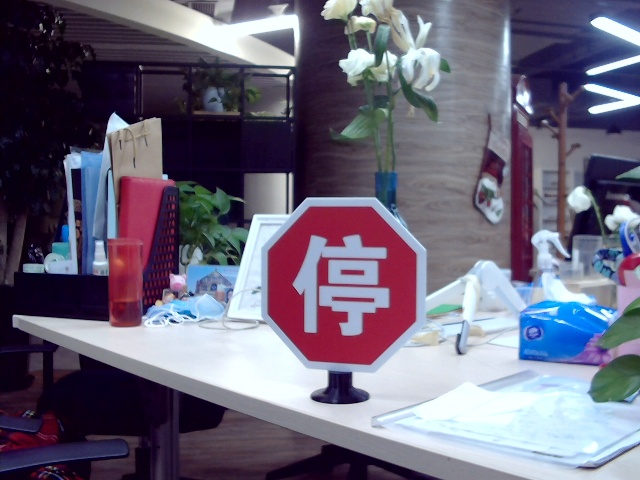stop: (293, 231, 387, 336)
